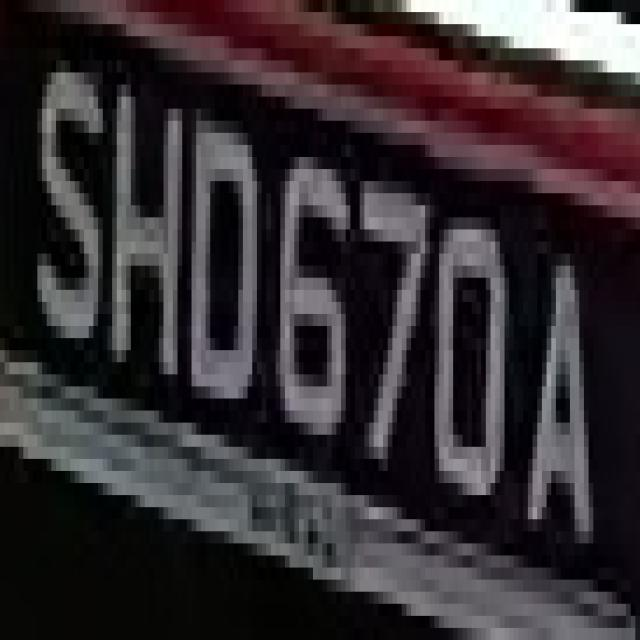0: (425, 157, 509, 555)
6: (271, 109, 346, 471)
7: (346, 121, 425, 495)
A: (518, 217, 608, 616)
D: (172, 84, 262, 410)
H: (103, 24, 182, 399)
S: (28, 24, 112, 374)
